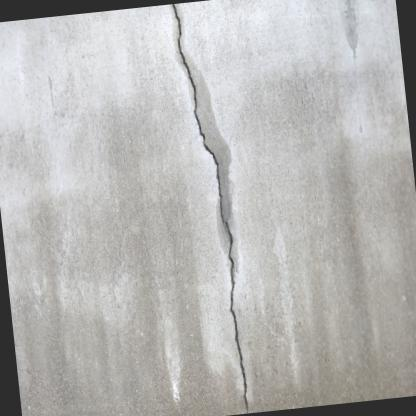crack: (170, 3, 248, 413)
